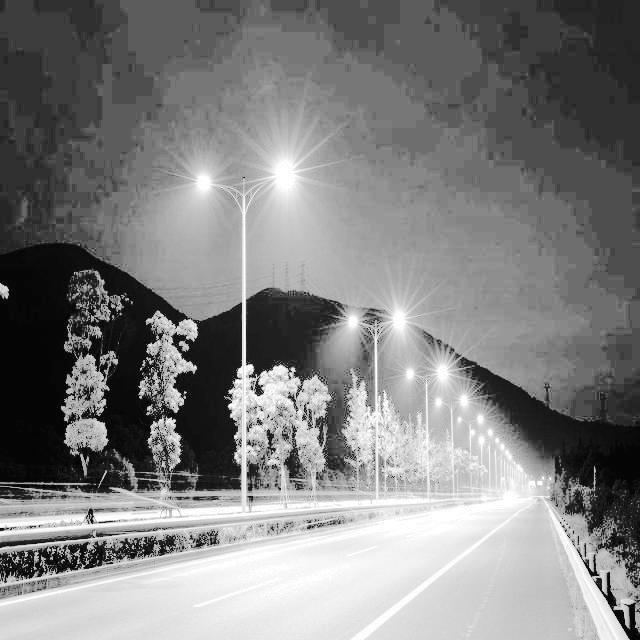Light: (183, 156, 309, 201), (337, 302, 417, 340), (404, 362, 455, 397)
Tree: (61, 266, 120, 486), (140, 304, 195, 491), (229, 356, 264, 493), (294, 373, 332, 491), (264, 364, 297, 496)
